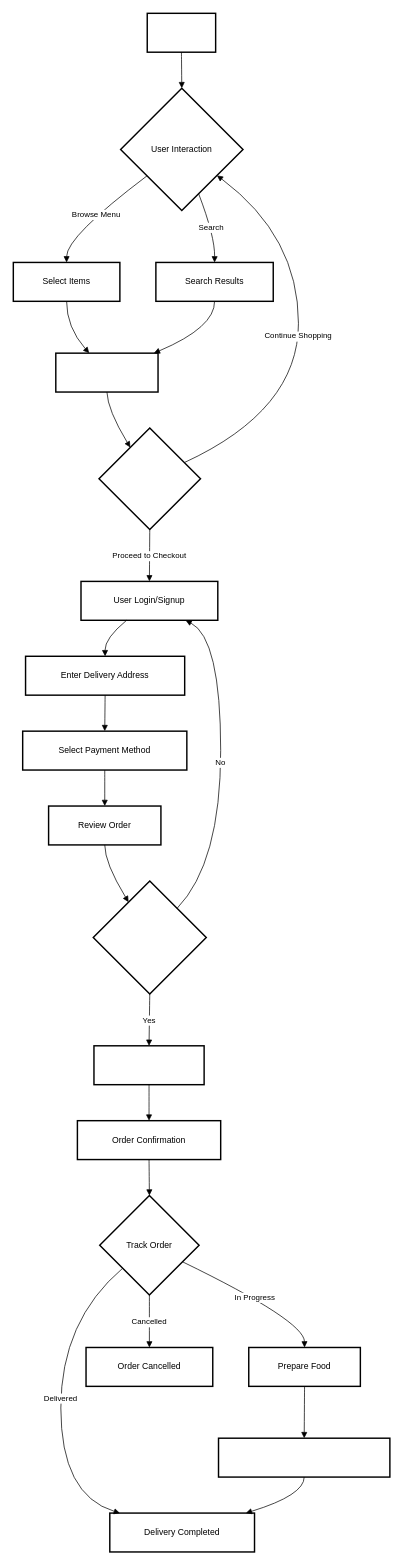
Some shapes in this 402 by 1565 pixel diagram are drawn without their labels. The centre of each missing label's shape, as x and y in pixels:
Add to Cart: the point at 106,372
Cart Actions: the point at 149,478
Confirm Order: the point at 149,937
Delivery Out for Delivery: the point at 303,1457
Order Placed: the point at 148,1065
Start: the point at 181,32
